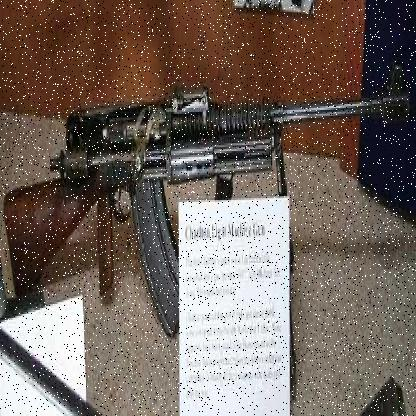rifle: (4, 30, 412, 354)
